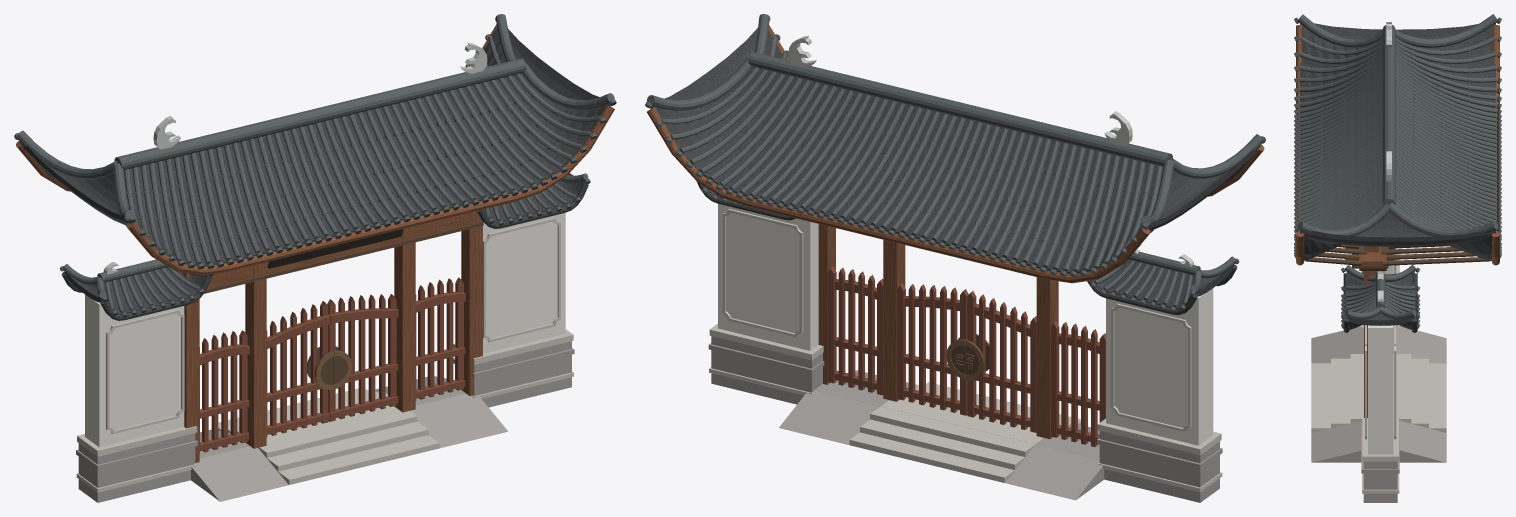
File: yangpu-fudan-old-gate-timber-paifang-web.glb
3 views of the same model, side by side, from view 1: azimuth 30°, elevation 25°; view 2: azimuth 150°, elevation 25°; view 3: azimuth 270°, elevation 25° (orthographic). The views are drawn at different scales.
Visible parts, largest first — view 1: 复旦大学邯郸校区老校门; view 2: 复旦大学邯郸校区老校门; view 3: 复旦大学邯郸校区老校门.
Boxes of the visible parts, left/top/right/bottom form: 复旦大学邯郸校区老校门: left=14, top=14, right=616, bottom=502; 复旦大学邯郸校区老校门: left=645, top=14, right=1265, bottom=502; 复旦大学邯郸校区老校门: left=1294, top=14, right=1501, bottom=502.
Size of the model in its own units: 8.24 by 5.7 by 3.42.
12 materials, 2 textured.
